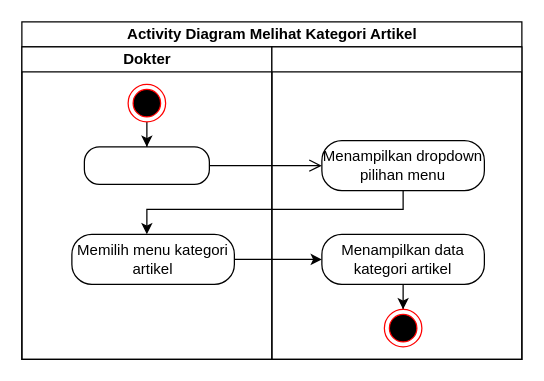
Image size: 544x381. Some labels were removed from this diagram. Here are the shapes that lost their labels. From the top down, the box of each, then its label:
(83, 146, 209, 184): Memilih menu master data
(271, 46, 522, 359): Sistem
